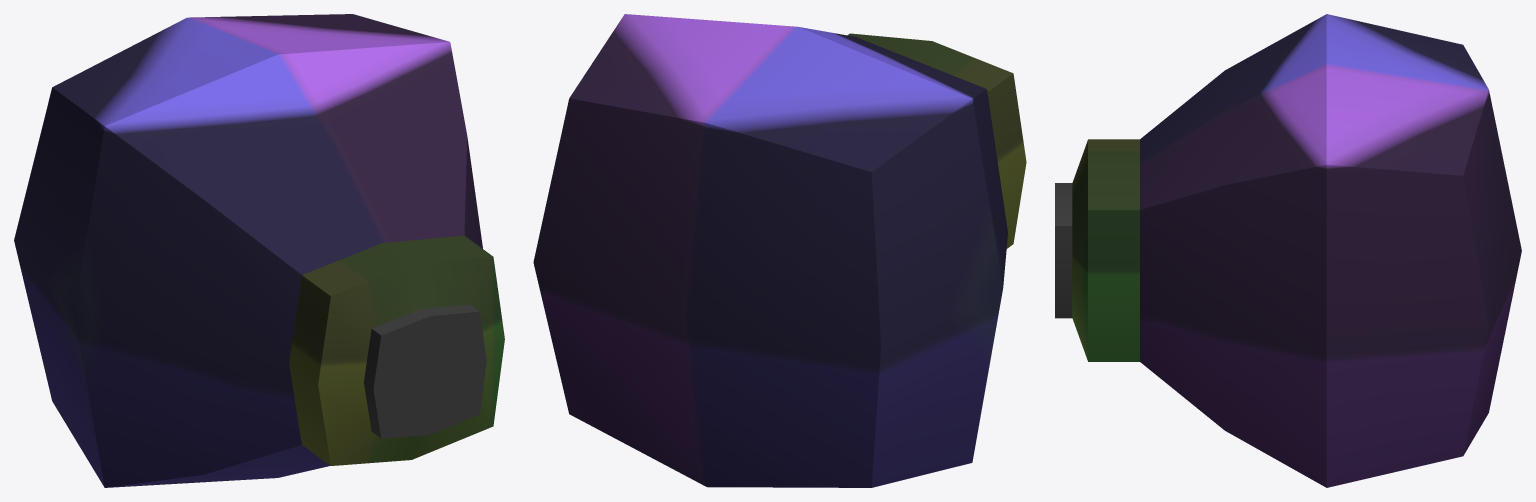
File: Head 02.FBX
The picture shows the model from 3 angles, left to right: view 1: azimuth 30°, elevation 25°; view 2: azimuth 150°, elevation 25°; view 3: azimuth 270°, elevation 25°; orthographic projection. The views are drawn at different scales.
Parts seen in each view (by area): view 1: Head 02; view 2: Head 02; view 3: Head 02.
Boxes of the visible parts, left/top/right/bottom form: Head 02: left=14, top=14, right=504, bottom=487; Head 02: left=533, top=14, right=1026, bottom=487; Head 02: left=1055, top=14, right=1521, bottom=487.
Size of the model in its own units: 64.26 by 64.45 by 72.08.
1 material, 1 textured.
